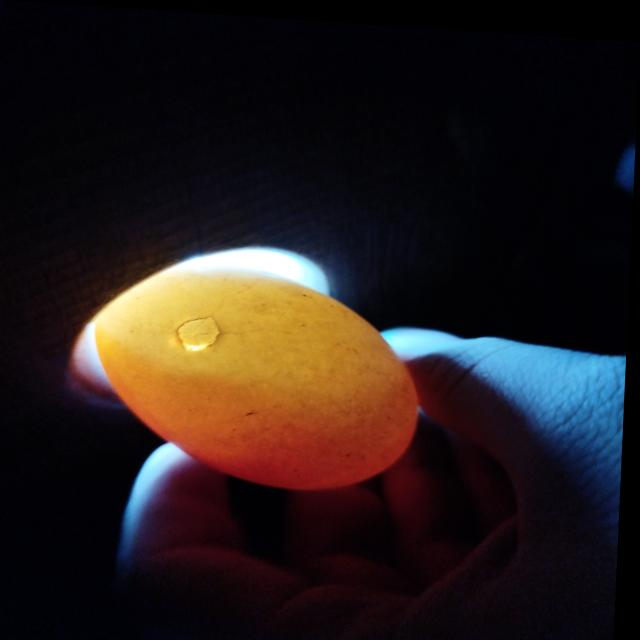Gema Quebrada: (98, 321, 423, 485)
Rachadura: (180, 313, 223, 348)
